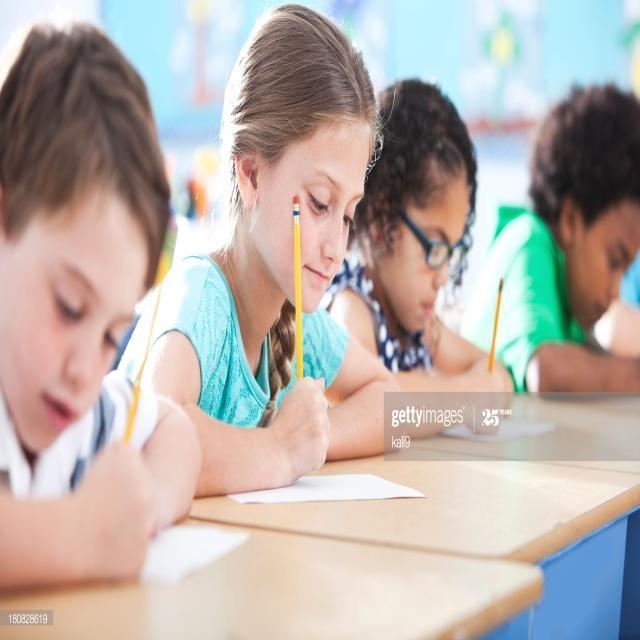good: (142, 3, 389, 513), (0, 20, 209, 603), (332, 67, 513, 420), (473, 70, 640, 410)
